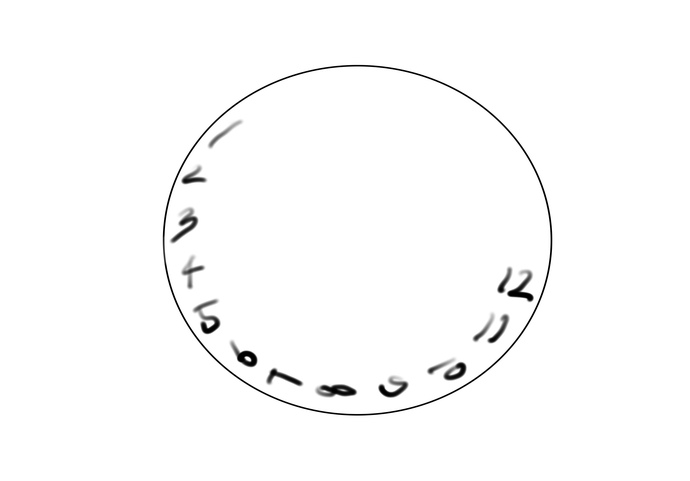eight: (313, 377, 357, 401)
eleven: (468, 312, 509, 340)
five: (194, 297, 223, 334)
four: (181, 252, 209, 290)
nine: (375, 371, 411, 399)
one: (209, 117, 245, 148)
seven: (266, 358, 305, 390)
six: (229, 335, 260, 369)
ten: (423, 347, 466, 382)
three: (175, 208, 197, 240)
twelve: (500, 256, 535, 302)
two: (185, 162, 208, 186)
